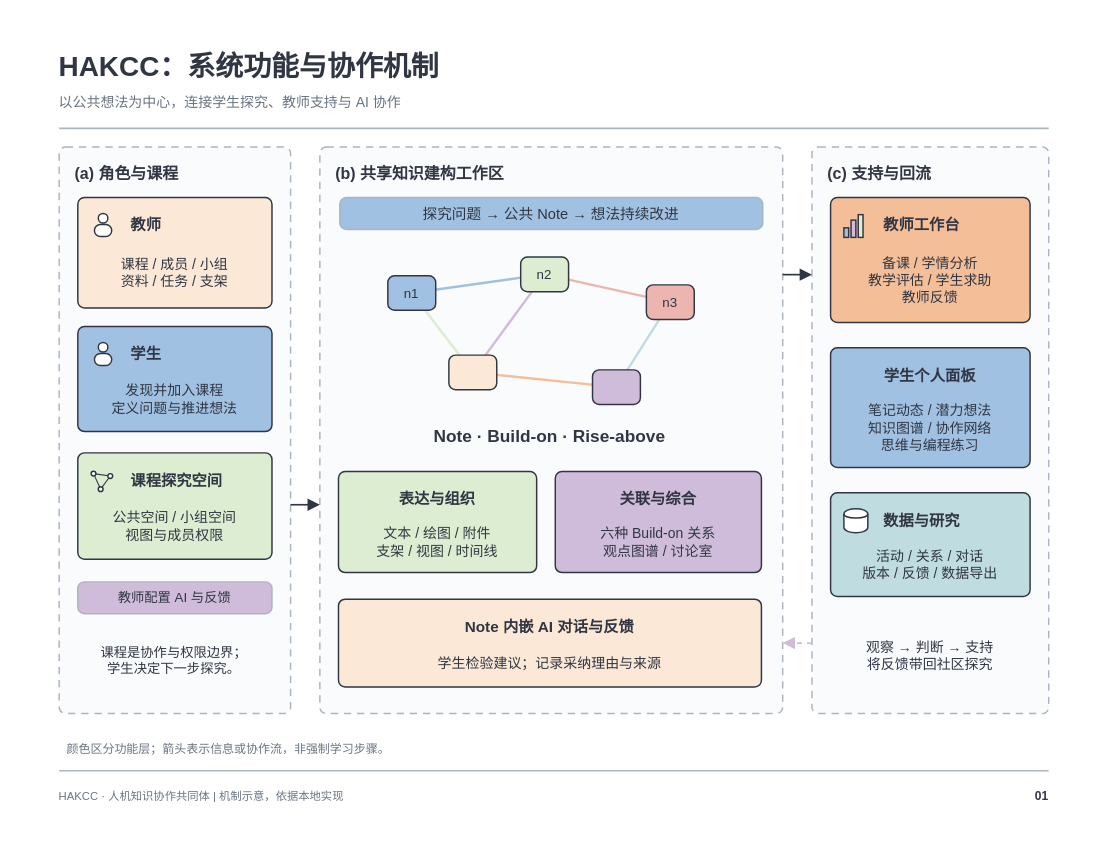
Image size: 1108x842. Some labels were removed from this diagram. Here are the shapes that lost their labels. From the top down, the centre of each, then its label:
[472,372]: n4
[616,387]: n5
